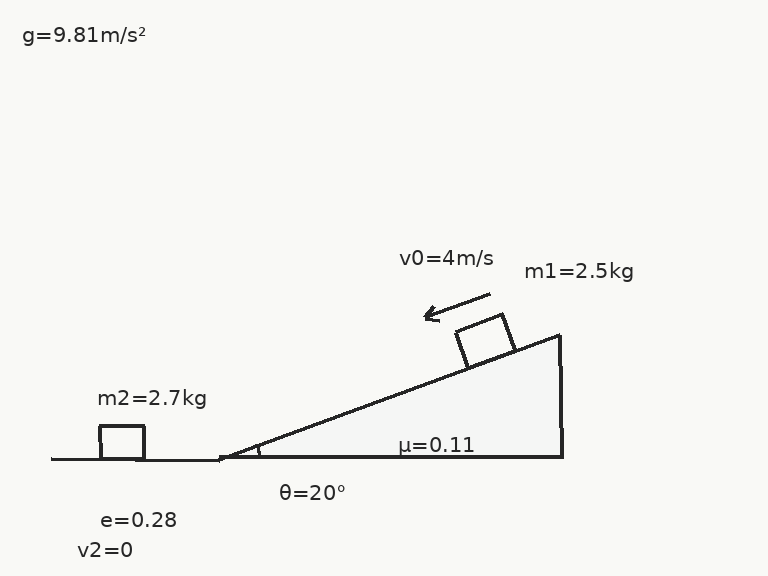block: (453, 313, 517, 370), (98, 424, 146, 460)
ramp: (217, 332, 561, 460)
